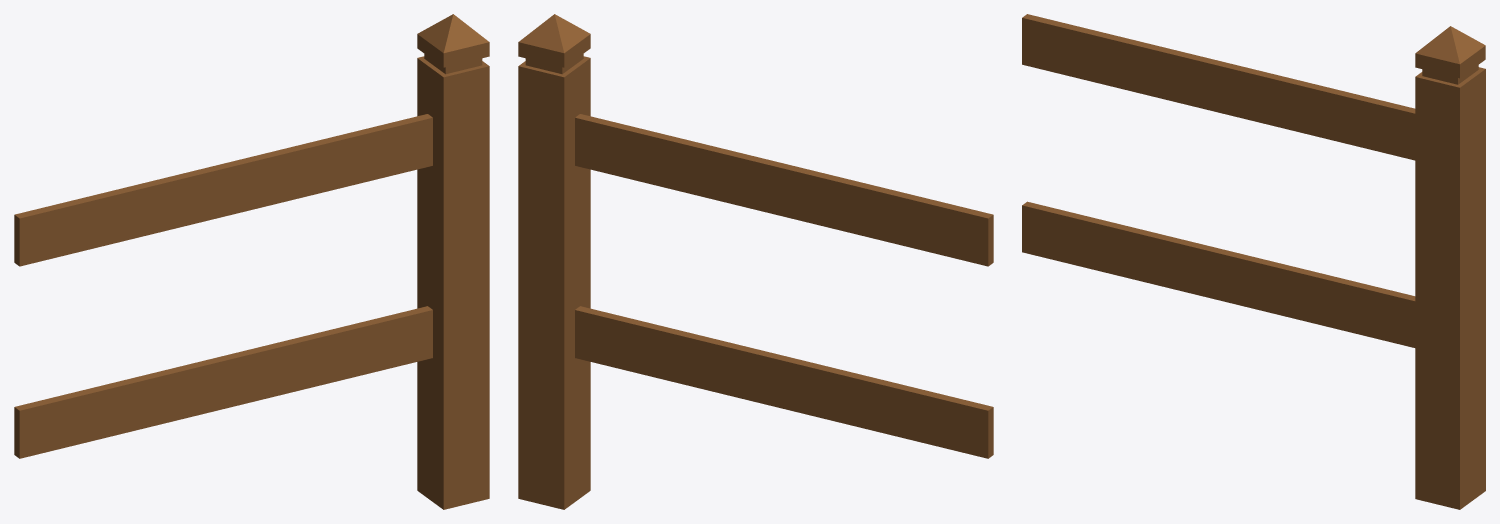
The model's file is ClassicFence.dae.
3 views of the same model, side by side, from view 1: azimuth 30°, elevation 25°; view 2: azimuth 150°, elevation 25°; view 3: azimuth 330°, elevation 25° (orthographic). The views are drawn at different scales.
Parts seen in each view (by area): view 1: Pole, BarrierUp, BarrierDown; view 2: Pole, BarrierUp, BarrierDown; view 3: Pole, BarrierUp, BarrierDown.
Boxes of the visible parts, left/top/right/bottom form: Pole: left=417, top=14, right=489, bottom=509; BarrierUp: left=14, top=114, right=432, bottom=266; BarrierDown: left=14, top=306, right=432, bottom=458; Pole: left=518, top=14, right=590, bottom=509; BarrierUp: left=575, top=114, right=993, bottom=266; BarrierDown: left=575, top=306, right=993, bottom=458; Pole: left=1415, top=26, right=1485, bottom=509; BarrierUp: left=1022, top=14, right=1415, bottom=160; BarrierDown: left=1022, top=201, right=1415, bottom=347.
Bounding box in the file's own units: 10 × 1 × 10.
